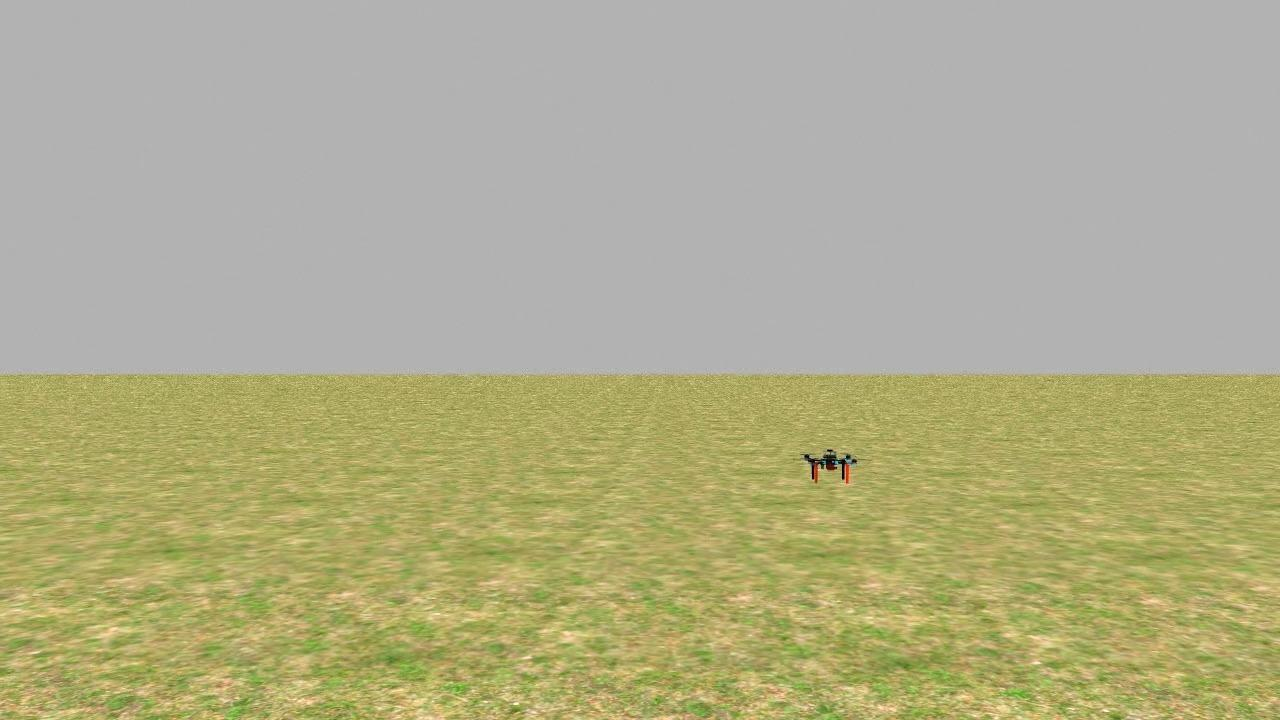UAV: (788, 424, 861, 499)
